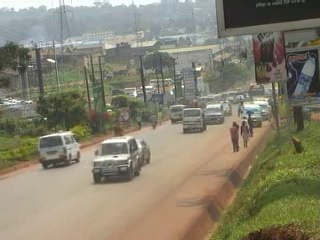Car: (90, 135, 142, 186), (136, 138, 151, 165), (220, 100, 232, 118), (232, 95, 247, 106)
Motorcycle: (149, 113, 159, 131)
